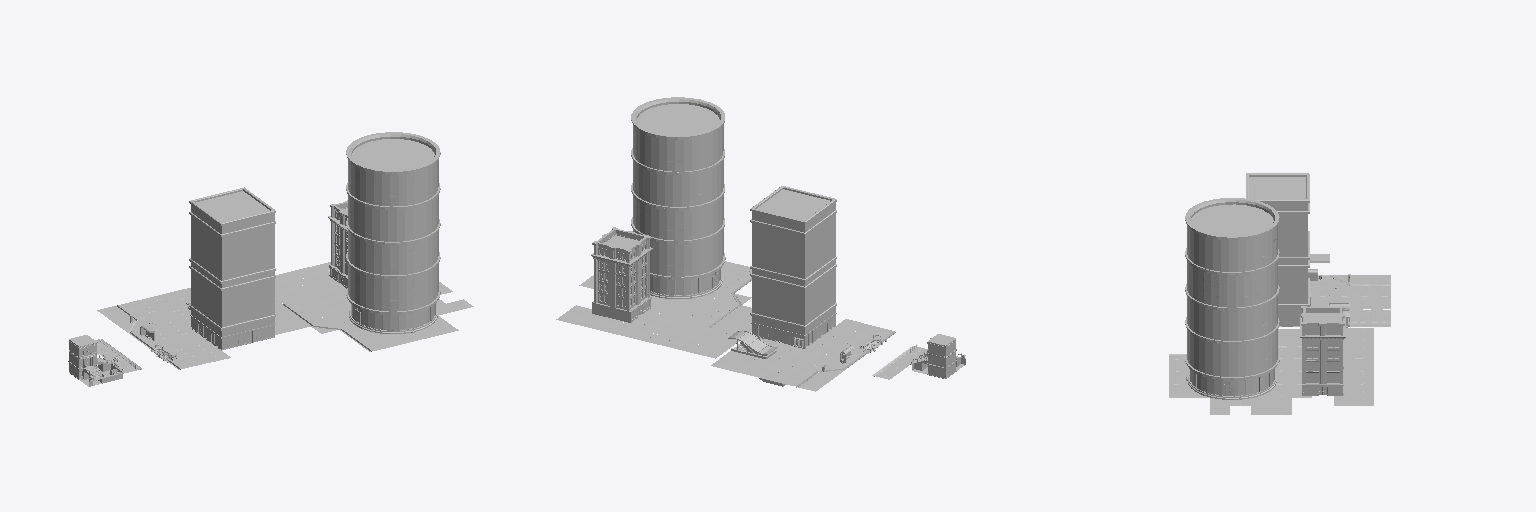
File: start_chunk_LOD_1.obj
3 renders of one model, left to right at view 1: azimuth 30°, elevation 25°; view 2: azimuth 150°, elevation 25°; view 3: azimuth 270°, elevation 25°, orthographic.
Parts seen in each view (by area): view 1: LOD_0_SM_Bld_Apartment_Corner_02_Scene.035; view 2: LOD_0_SM_Bld_Apartment_Corner_02_Scene.035; view 3: LOD_0_SM_Bld_Apartment_Corner_02_Scene.035.
Boxes of the visible parts, x1,y1,x2,y2 form: LOD_0_SM_Bld_Apartment_Corner_02_Scene.035: [68, 132, 473, 386]; LOD_0_SM_Bld_Apartment_Corner_02_Scene.035: [556, 97, 965, 391]; LOD_0_SM_Bld_Apartment_Corner_02_Scene.035: [1169, 173, 1390, 414].
Size of the model in its own units: 103 by 50.31 by 54.19.